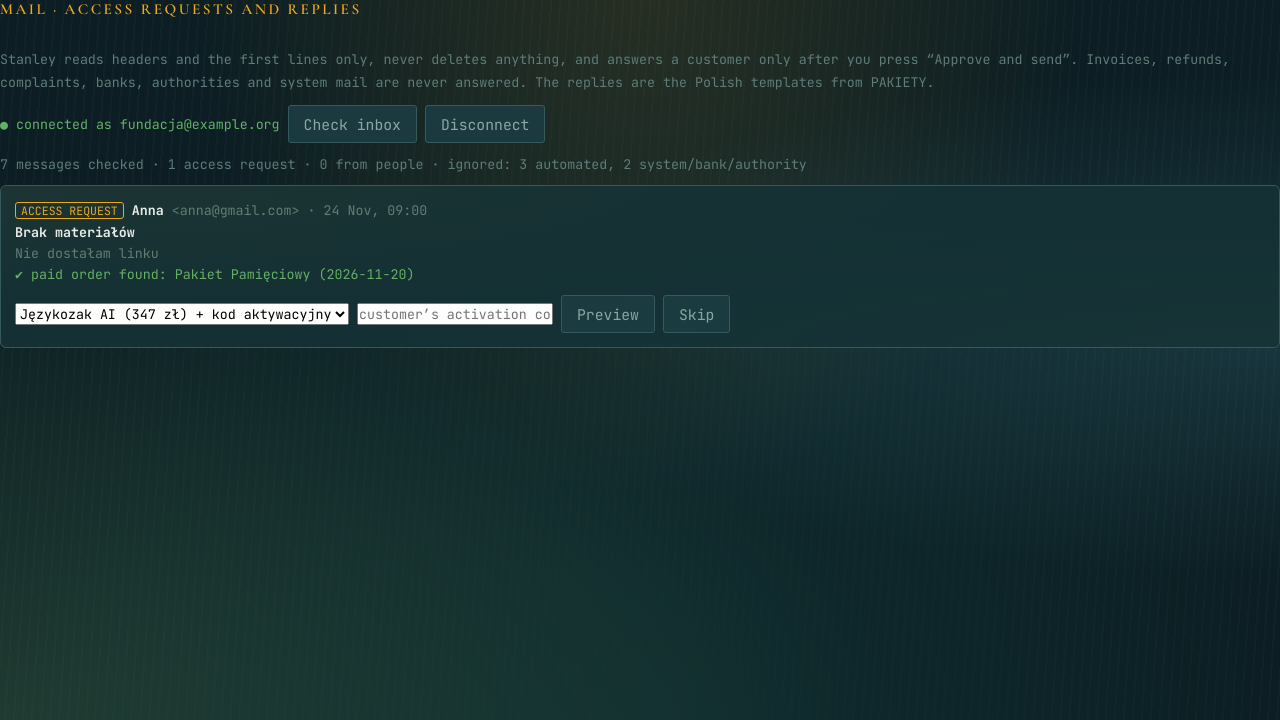
Scenario: MailPanel: approval flow › Językozak AI: Approve stays disabled until the activation code is typed; the code is sent
Later steps or results of the test are not shown.
Click the button "Preview" at point(608, 314), box [561,295,655,333]
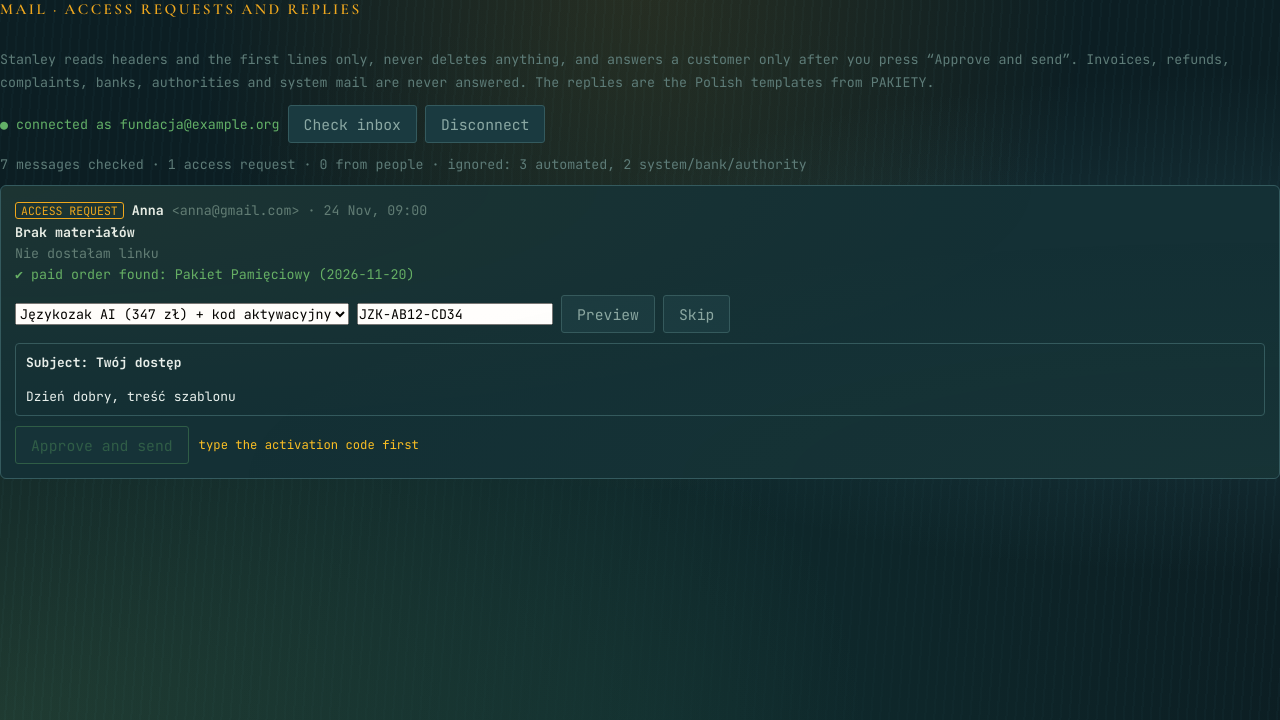
Now the text "type the activation code first" is shown, box [199,437,419,453]
Now the button "Approve and send" is disabled, box [15,426,189,464]
